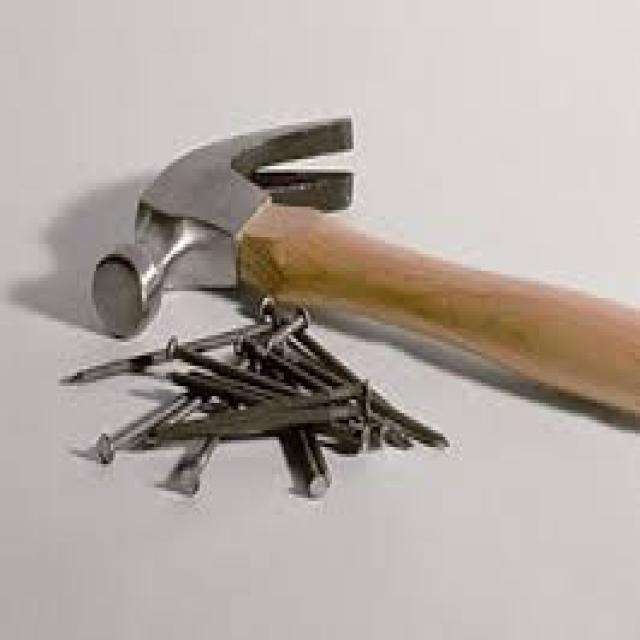hammer: (60, 89, 640, 374)
